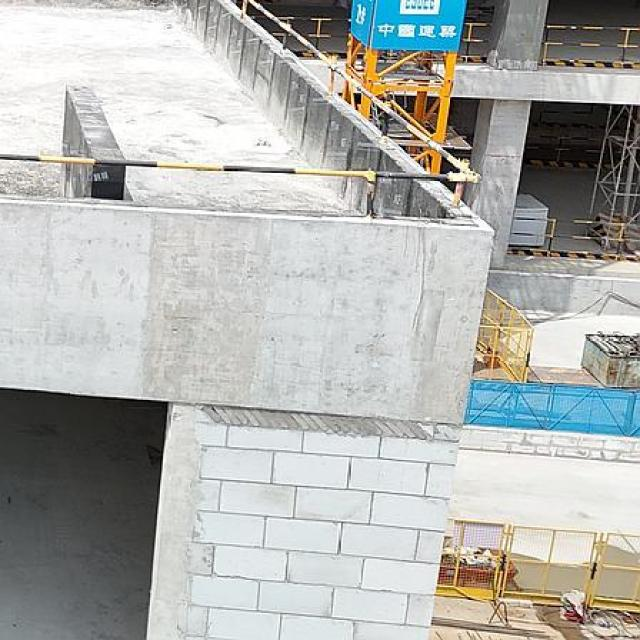Guardrail: (0, 0, 484, 221), (510, 216, 640, 254), (250, 14, 350, 50), (543, 25, 640, 62), (461, 22, 492, 55)
